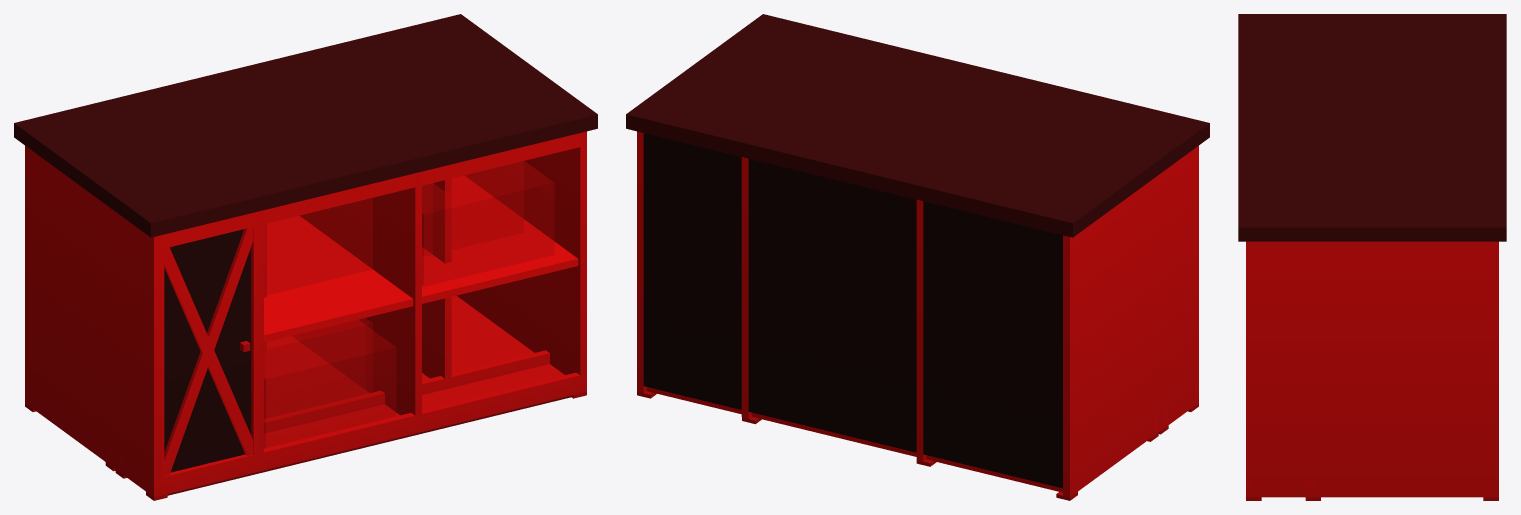
Rendered from stand_classic.glb.
The picture shows the model from 3 angles, left to right: view 1: azimuth 30°, elevation 25°; view 2: azimuth 150°, elevation 25°; view 3: azimuth 270°, elevation 25°; orthographic projection. The views are drawn at different scales.
Parts seen in each view (by area): view 1: display_120, long_reef_60, rimless_40, nano_cube_20; view 2: display_120, long_reef_60, rimless_40, nano_cube_20; view 3: display_120, long_reef_60, nano_cube_20, rimless_40.
Part boxes in pixels (x1,y1,x2,y2): display_120: [14, 14, 597, 500]; long_reef_60: [14, 14, 566, 478]; rimless_40: [17, 41, 461, 433]; nano_cube_20: [14, 83, 266, 471]; display_120: [626, 14, 1209, 500]; long_reef_60: [627, 36, 1179, 496]; rimless_40: [731, 62, 1175, 490]; nano_cube_20: [905, 112, 1167, 496]; display_120: [1238, 14, 1506, 500]; long_reef_60: [1297, 14, 1506, 500]; nano_cube_20: [1318, 14, 1506, 93]; rimless_40: [1297, 14, 1506, 131].
Bounding box in the file's own units: 130 × 78.4 × 69.
